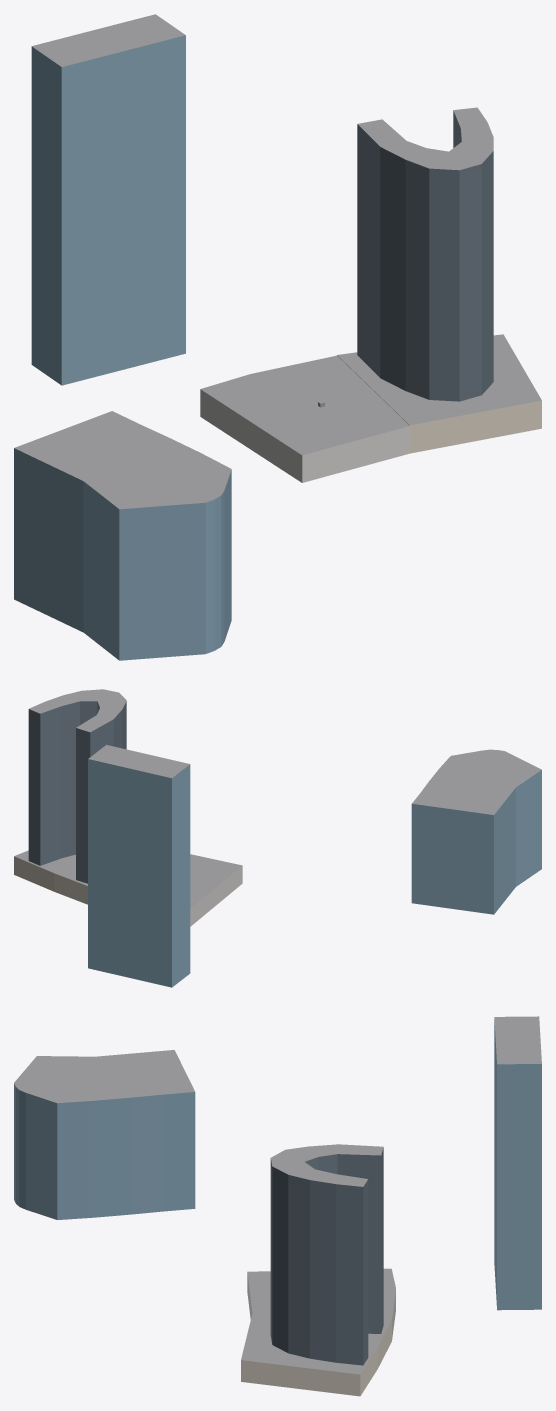
File: building_-4_5.glb
The picture shows the model from 3 angles, top to bottom: view 1: azimuth 30°, elevation 25°; view 2: azimuth 150°, elevation 25°; view 3: azimuth 270°, elevation 25°; orthographic projection. The views are drawn at different scales.
Visible parts, largest first — view 1: glass_blue, roof, glass_dark, concrete_light, concrete_warm; view 2: glass_blue, glass_dark, roof, concrete_warm, concrete_light; view 3: glass_blue, glass_dark, roof, concrete_warm.
Part boxes in pixels (<box>): glass_blue: <box>14,35,231,660</box>; roof: <box>14,14,541,509</box>; glass_dark: <box>357,111,493,401</box>; concrete_light: <box>200,389,409,482</box>; concrete_warm: <box>337,355,541,453</box>; glass_blue: <box>88,759,541,987</box>; glass_dark: <box>28,701,126,883</box>; roof: <box>14,689,541,908</box>; concrete_warm: <box>14,856,87,904</box>; concrete_light: <box>190,865,242,926</box>; glass_blue: <box>14,1020,541,1310</box>; glass_dark: <box>270,1147,383,1365</box>; roof: <box>14,1016,541,1374</box>; concrete_warm: <box>241,1320,391,1396</box>.
Size of the model in its own units: 295 by 147 by 287.
